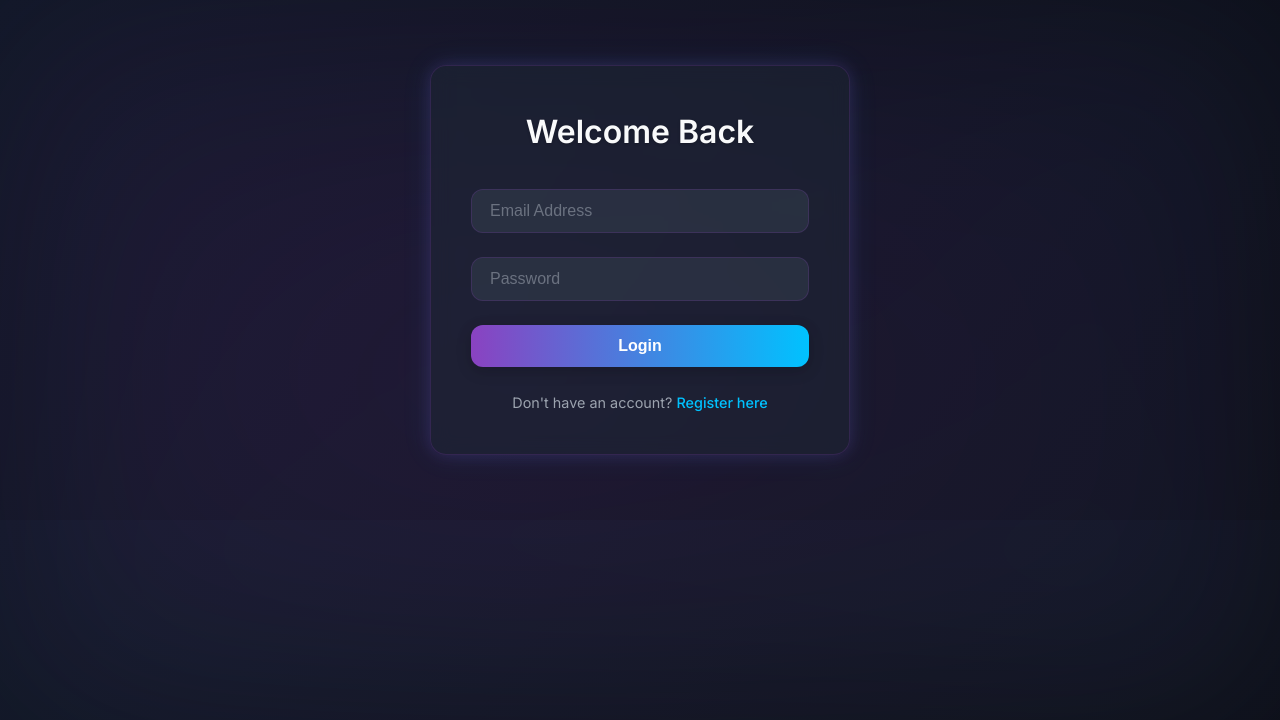
<LoginPage /> › should display an error message on failed login
# --- Action ---
Type "wrong@example.com" into the field with placeholder "Email Address" at (640, 211), box [471,189,809,233]
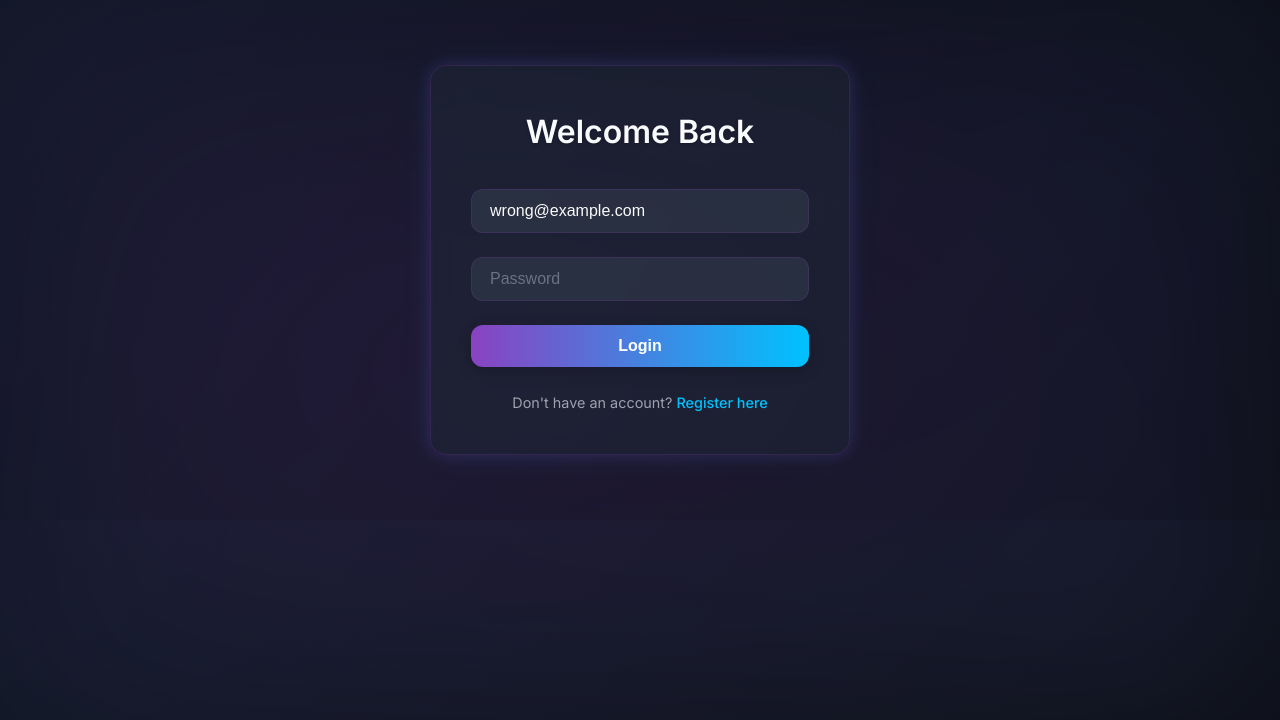
Type "wrongpassword" into the password field with placeholder "Password" at (640, 279), box [471,257,809,301]
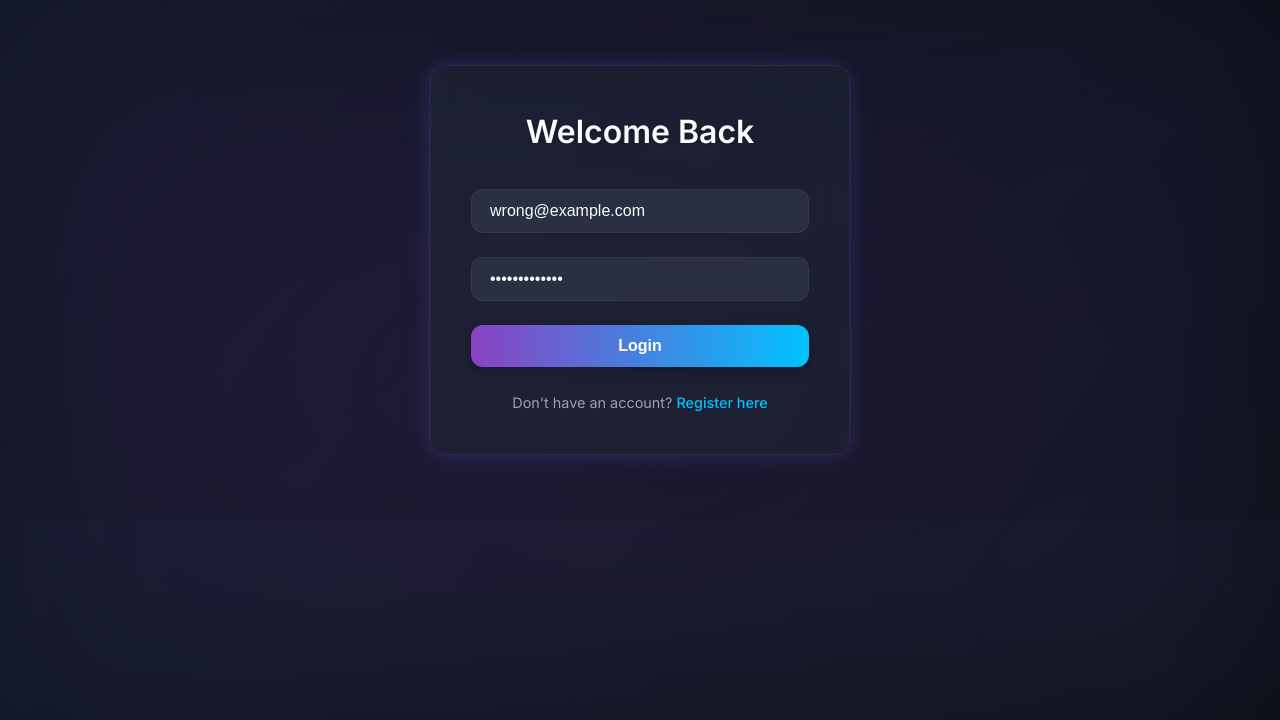
Click the button "Login" at (640, 346), box [471,325,809,367]
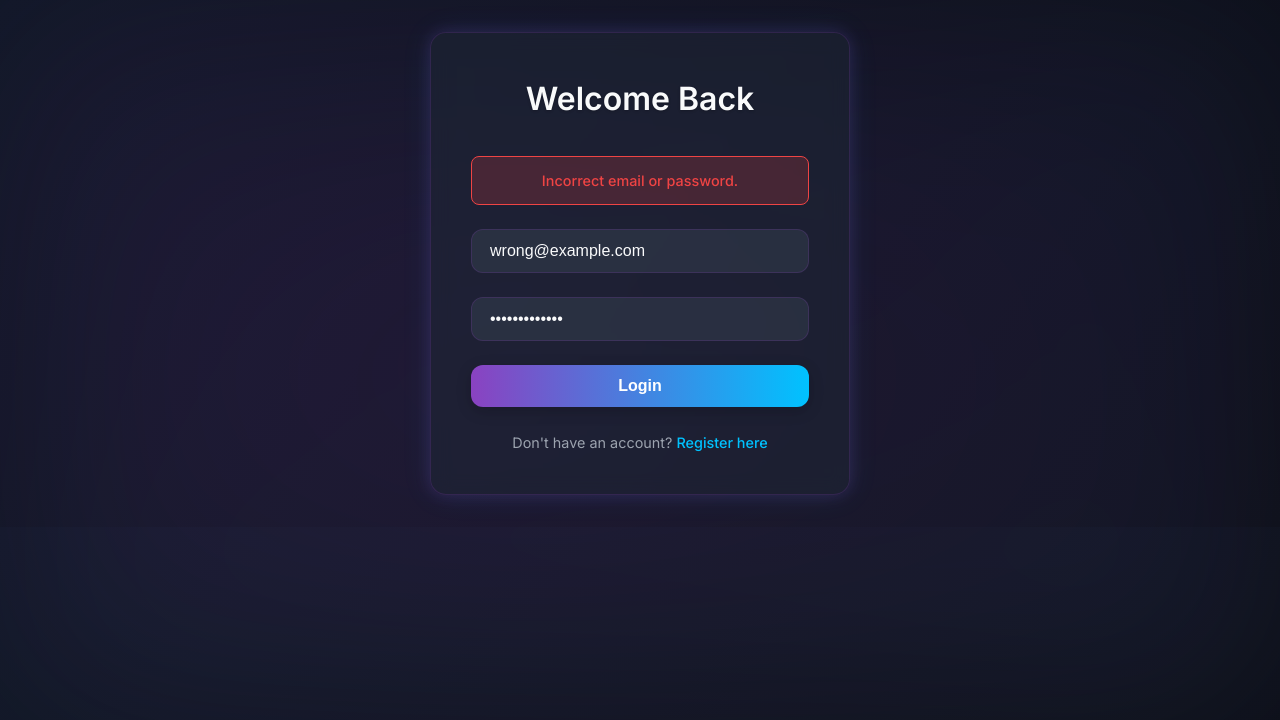
Expected: the text "Incorrect email or password." is shown, [471,156,809,205]
